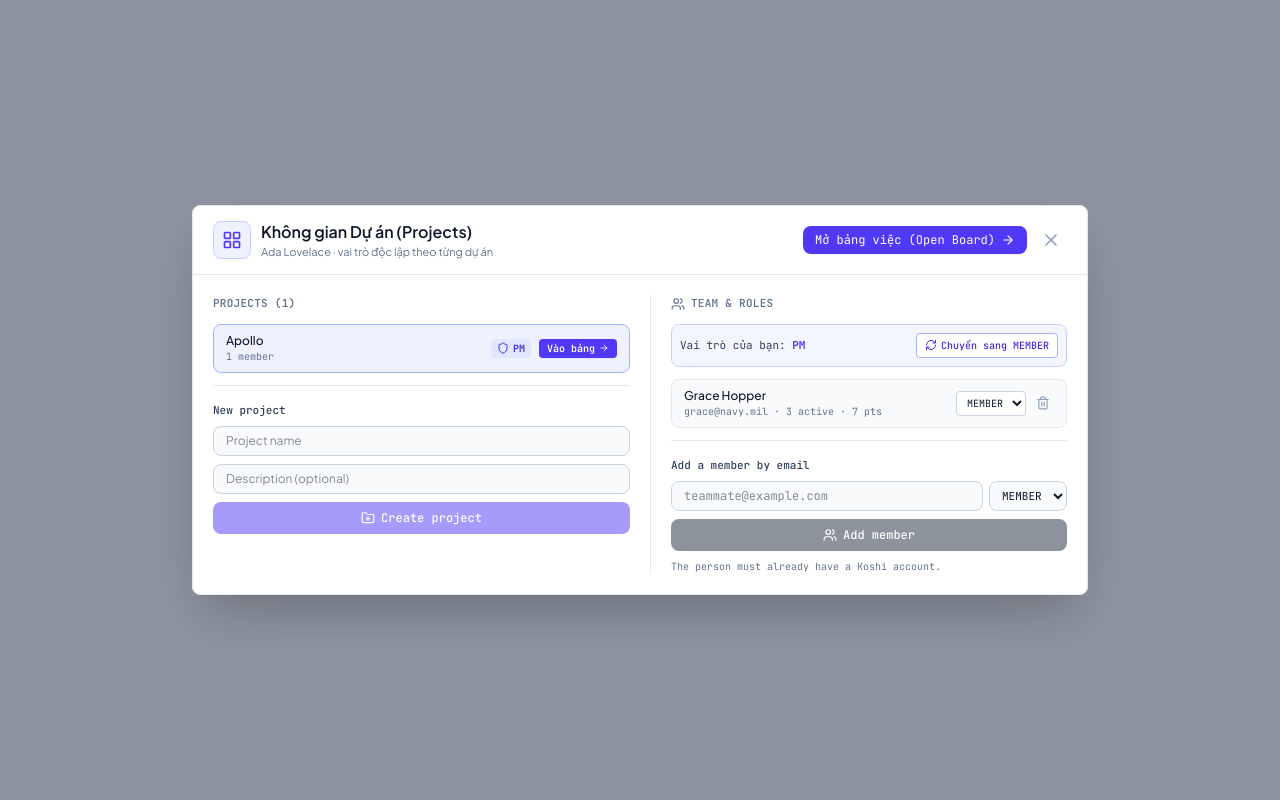
Test: failure handling › surfaces a rejected invite
This screenshot has width=1280, height=800.
Type "ghost@example.com" into the field with id "invite-email" at (827, 496), box [671,481,983,511]
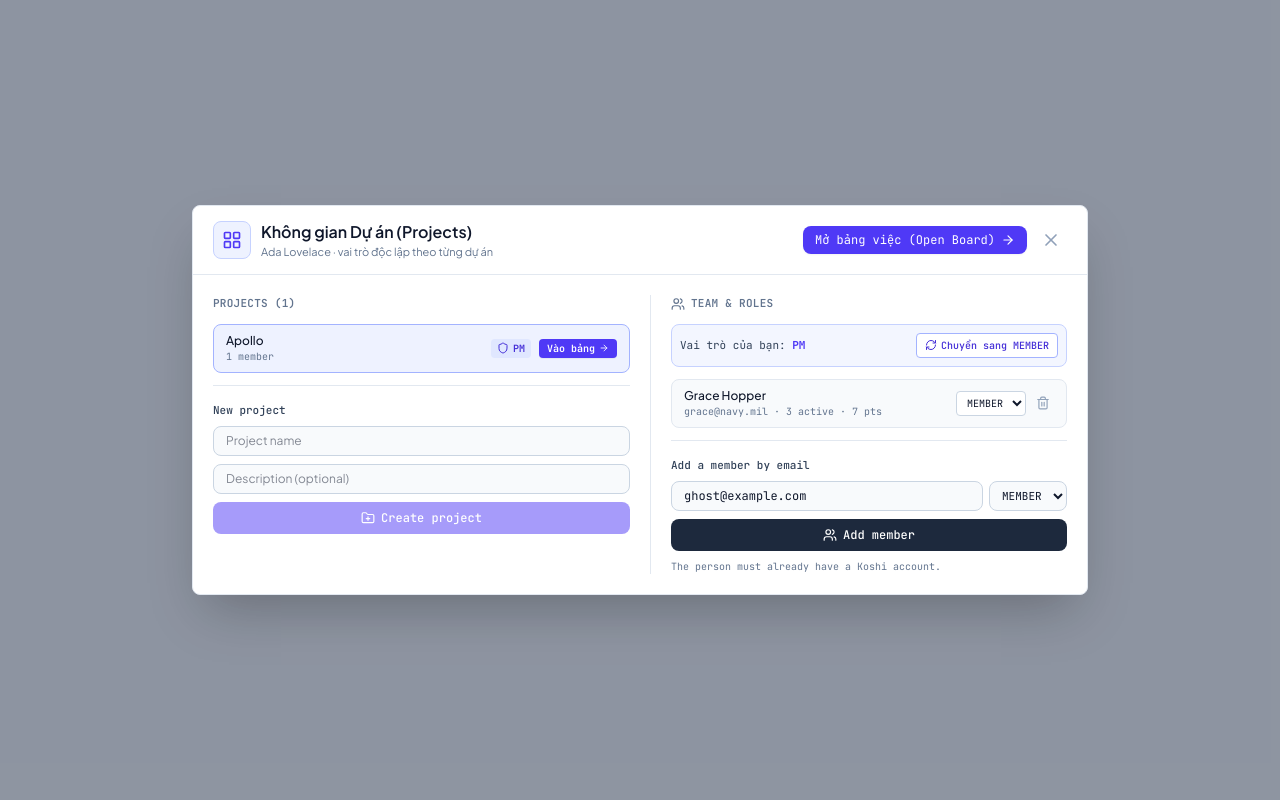
Submit the form that starts with "Add a member by email", box [671,440,1067,574]
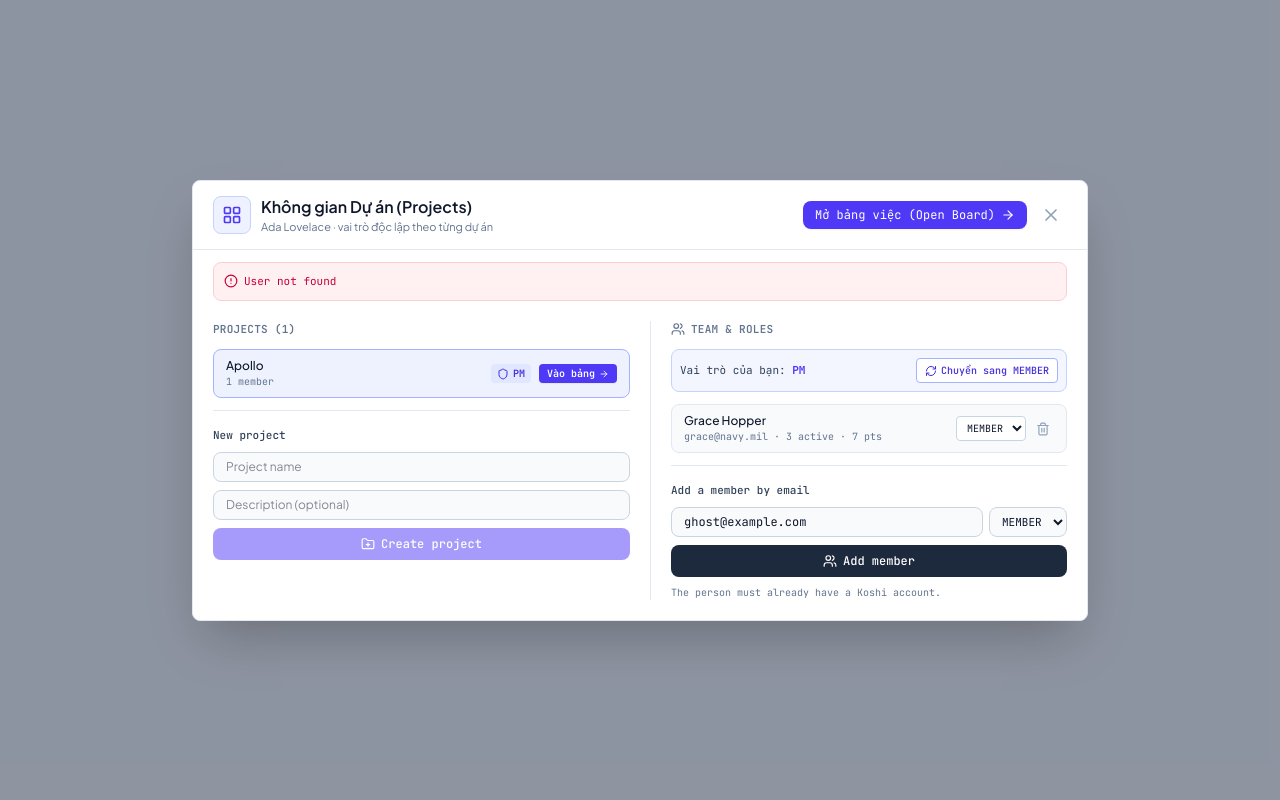
Expected: the text "User not found" is shown, [244,273,336,290]
